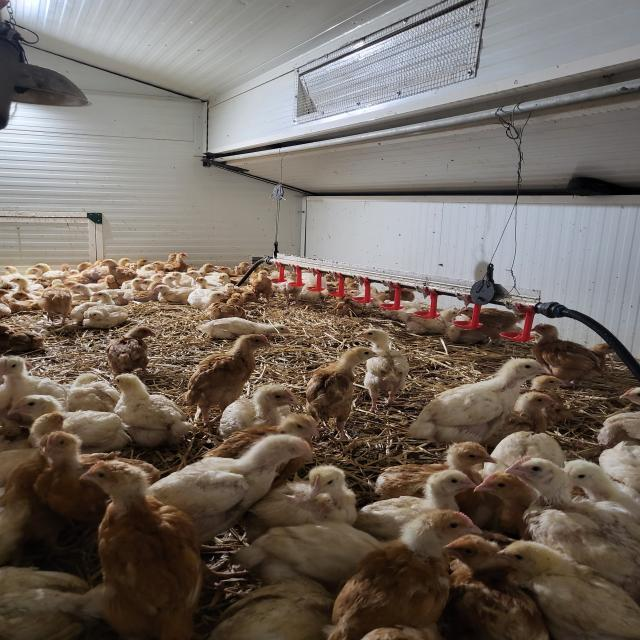poussin: (79, 460, 203, 636), (331, 508, 486, 640), (510, 458, 640, 586), (144, 434, 316, 526), (496, 538, 640, 640), (408, 354, 552, 442), (31, 432, 156, 514), (442, 536, 540, 640), (242, 520, 419, 572), (352, 466, 482, 532), (0, 564, 117, 635), (0, 409, 66, 531), (306, 342, 383, 442), (184, 330, 276, 412), (371, 439, 494, 499), (108, 372, 203, 448), (215, 576, 327, 640), (6, 396, 134, 450), (255, 464, 364, 524), (210, 415, 322, 472), (0, 354, 104, 412), (561, 443, 640, 511), (528, 321, 605, 386), (211, 381, 300, 437), (362, 325, 417, 410), (468, 467, 541, 527), (509, 374, 564, 434), (105, 326, 163, 374), (599, 386, 640, 448), (451, 310, 518, 341), (194, 320, 296, 340), (399, 304, 463, 330), (41, 278, 72, 326), (70, 283, 137, 303), (72, 288, 110, 320), (346, 284, 396, 308), (0, 325, 43, 352), (204, 294, 244, 320), (102, 258, 142, 284), (9, 276, 43, 306), (83, 306, 131, 325), (0, 291, 28, 317), (188, 289, 224, 309), (132, 256, 164, 278), (302, 274, 327, 302), (154, 286, 197, 302), (150, 270, 187, 288), (35, 262, 69, 281), (254, 270, 274, 300), (0, 262, 22, 288), (66, 266, 94, 286), (190, 263, 236, 275), (332, 296, 364, 313), (80, 260, 105, 281), (162, 252, 186, 272), (203, 271, 230, 288), (271, 269, 298, 286), (141, 278, 159, 301), (123, 279, 142, 300), (20, 266, 40, 282), (213, 282, 236, 294), (196, 278, 218, 290), (186, 270, 206, 282), (236, 258, 248, 276), (117, 258, 131, 268)
